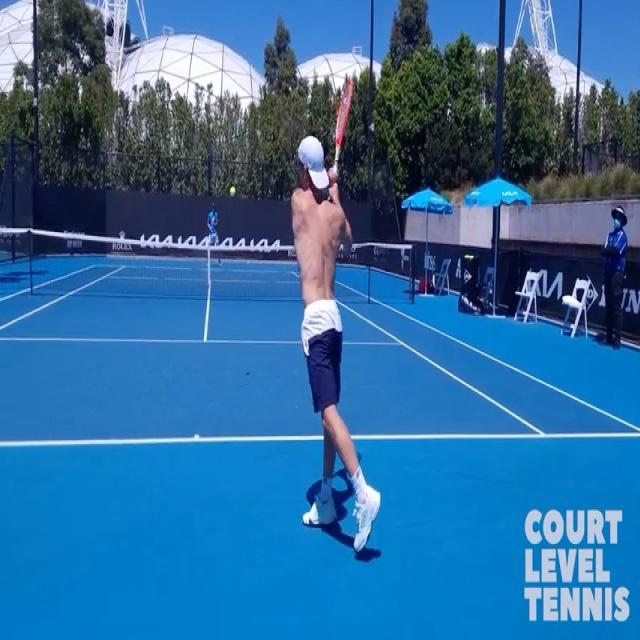backhand-stroke: (289, 79, 378, 558)
